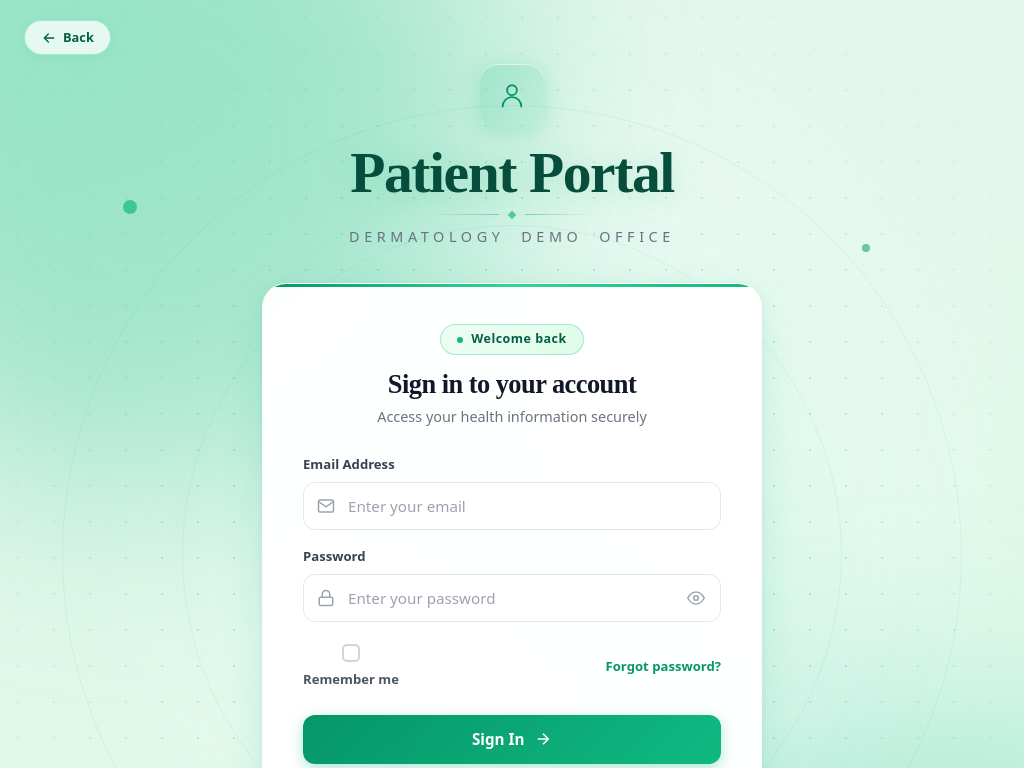
Test: Patient portal pages › shows a login error when credentials fail
The image size is (1024, 768).
Type "patient@example.com" into the field labelled "Email Address" at coordinates (512, 506), box [303,482,721,530]
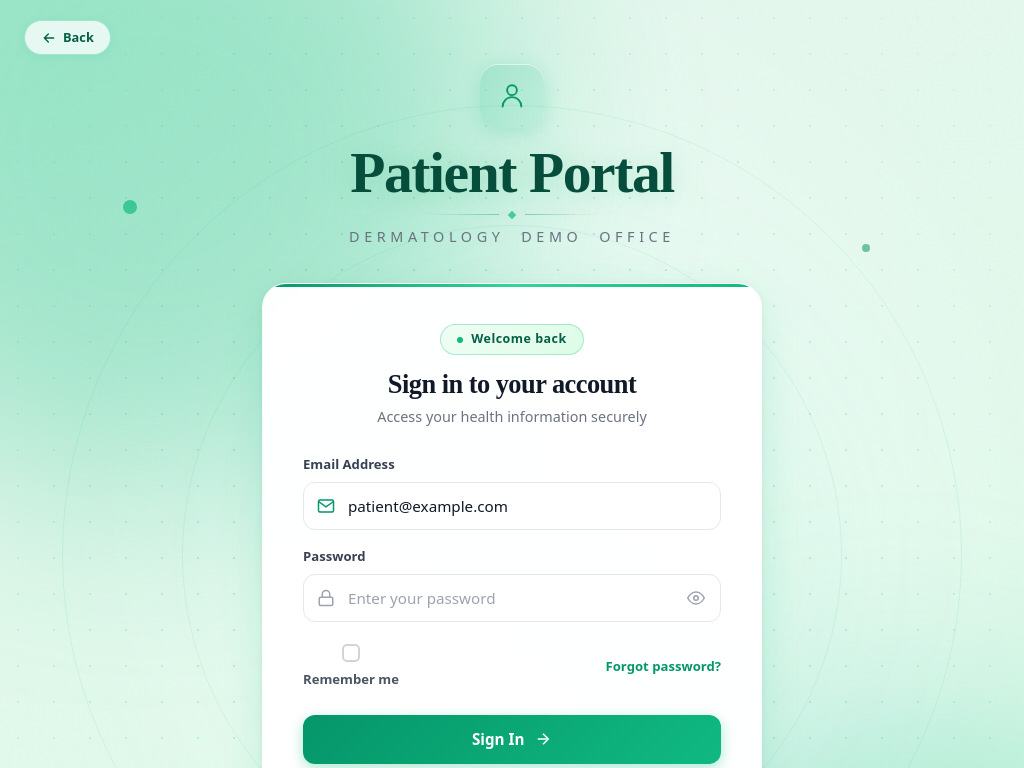
Type "wrong" into the password field labelled "Password" at coordinates (512, 598), box [303,574,721,622]
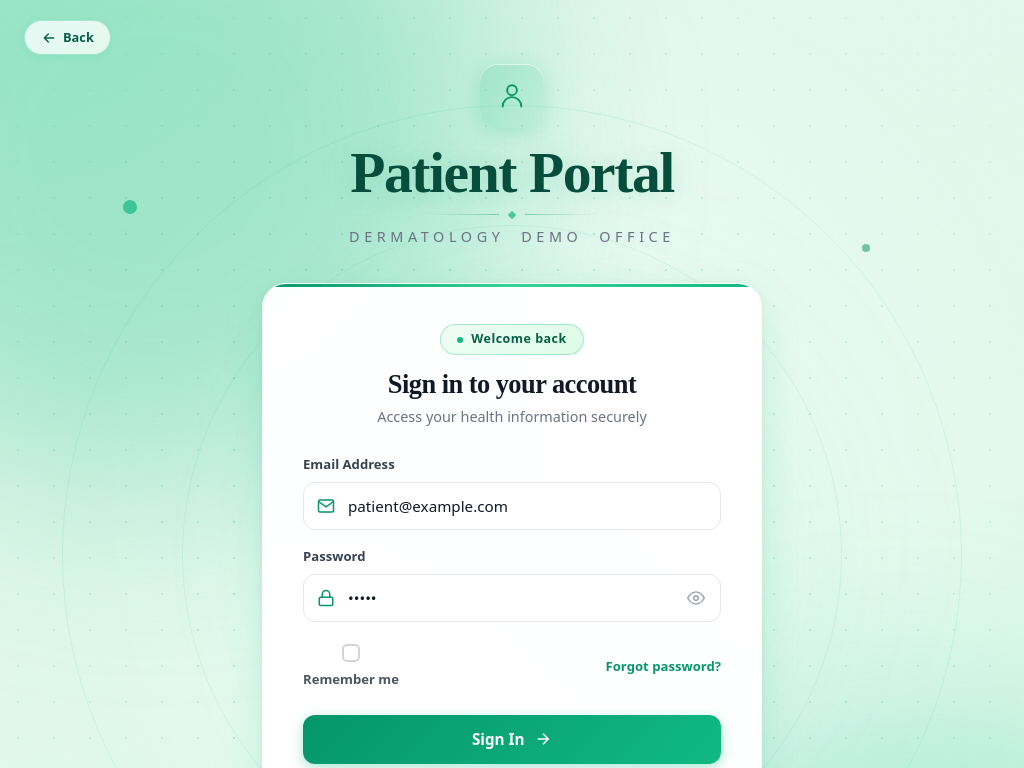
Click the button "Sign In" at coordinates (512, 739), box [303,715,721,764]
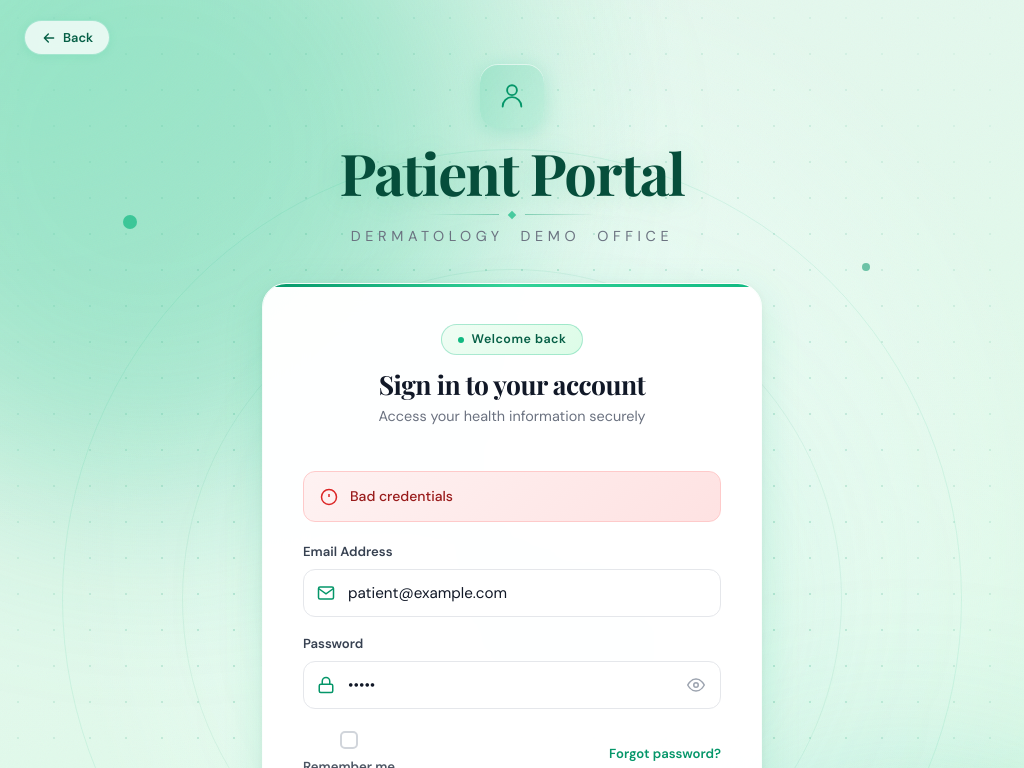
Now the text "Bad credentials" is shown, box [350,486,453,507]
